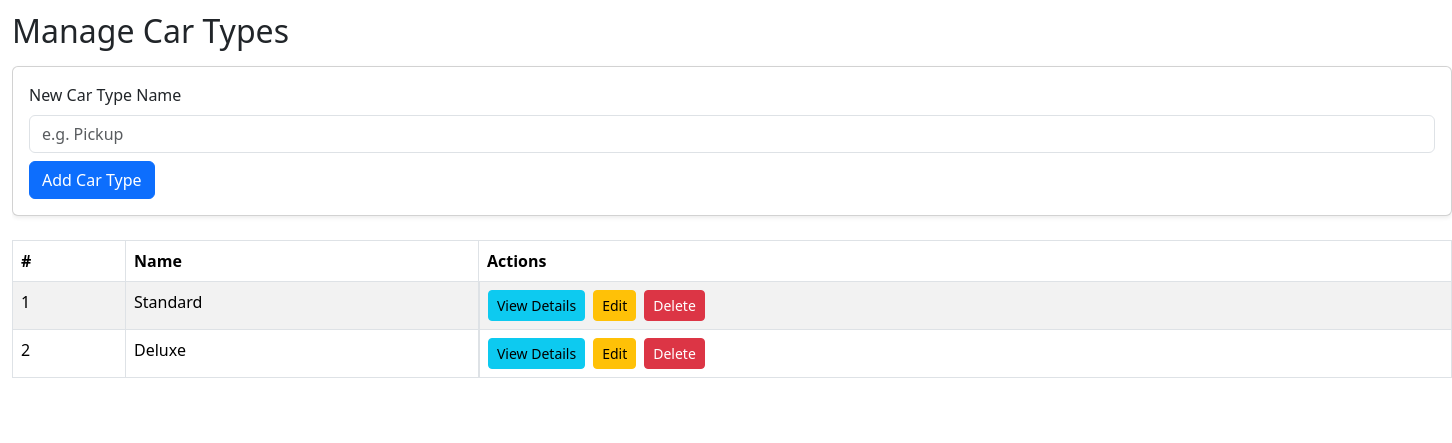
Scenario: TODO-10A: ManageCarTypes — Thêm loại phòng mới › thêm carType mới → xuất hiện trong danh sách
The width and height of the screenshot is (1452, 443).
Expected: the text "Standard" is shown, x1=126 y1=282 x2=478 y2=330
In the field with placeholder "e.g. Pickup": (732, 134) x1=29 y1=115 x2=1435 y2=153, type "Pickup"
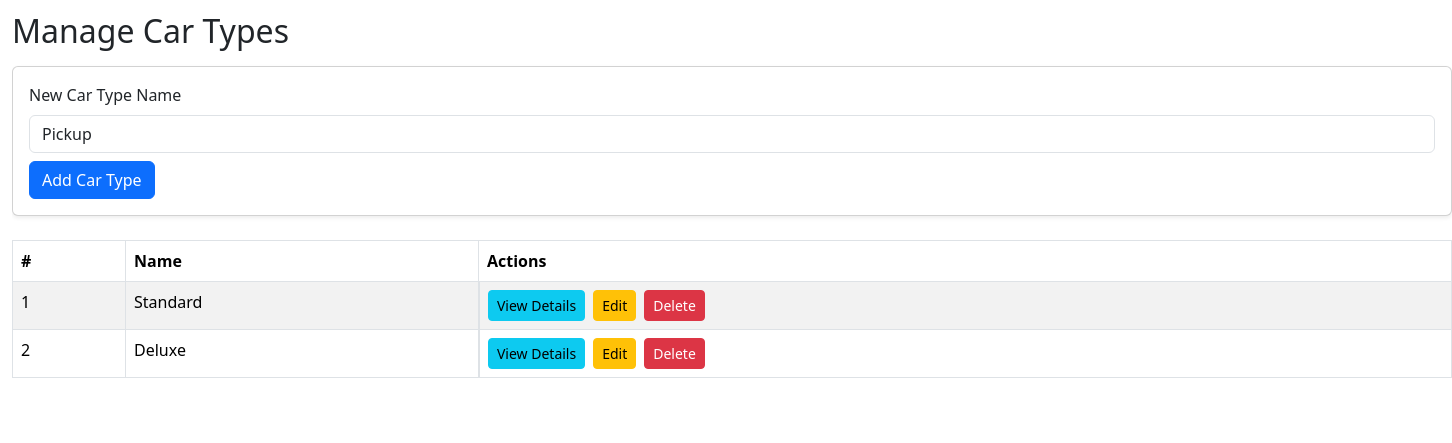
Click the button "Add Car Type": (92, 180) x1=29 y1=161 x2=154 y2=199
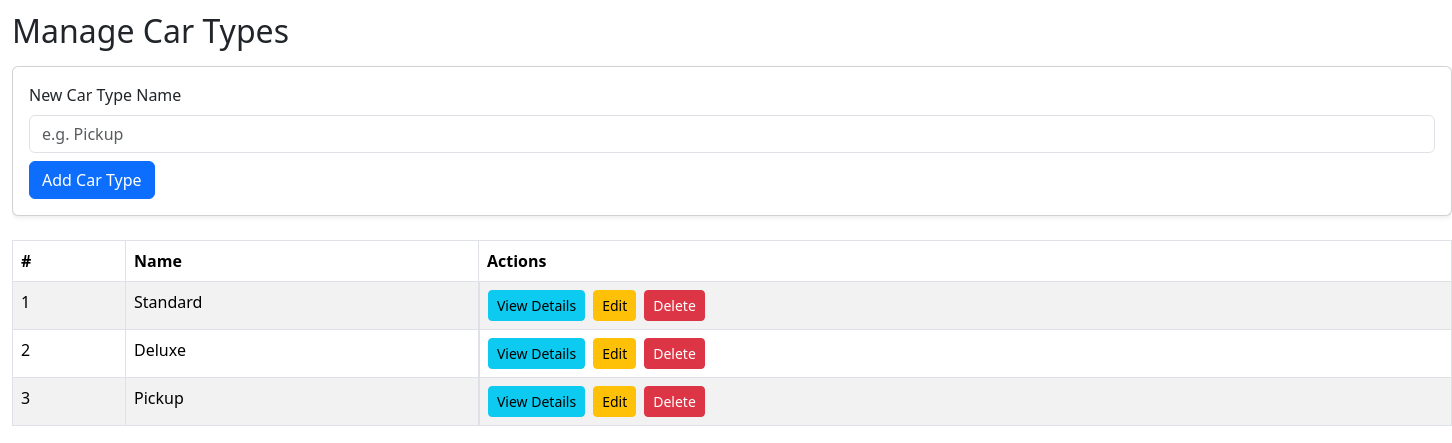
Result: the text "Pickup" is shown at x1=126 y1=378 x2=478 y2=426
